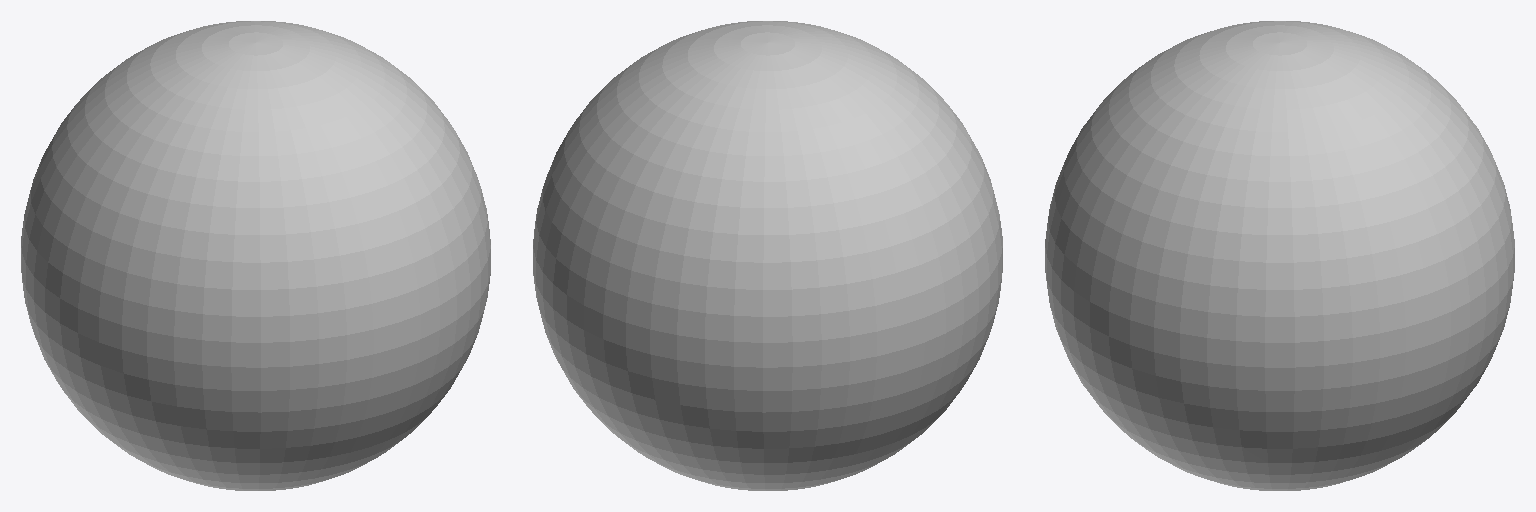
Rendered from insidesphere.obj.
3 views of the same model, side by side, from view 1: azimuth 30°, elevation 25°; view 2: azimuth 150°, elevation 25°; view 3: azimuth 270°, elevation 25° (orthographic).
Parts seen in each view (by area): view 1: Sphere; view 2: Sphere; view 3: Sphere.
Boxes of the visible parts, x1,y1,x2,y2 form: Sphere: [21, 21, 490, 490]; Sphere: [533, 21, 1002, 490]; Sphere: [1045, 21, 1514, 490].
Size of the model in its own units: 13.59 by 13.64 by 13.62.